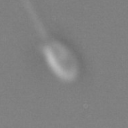normal: (15, 1, 52, 44)
